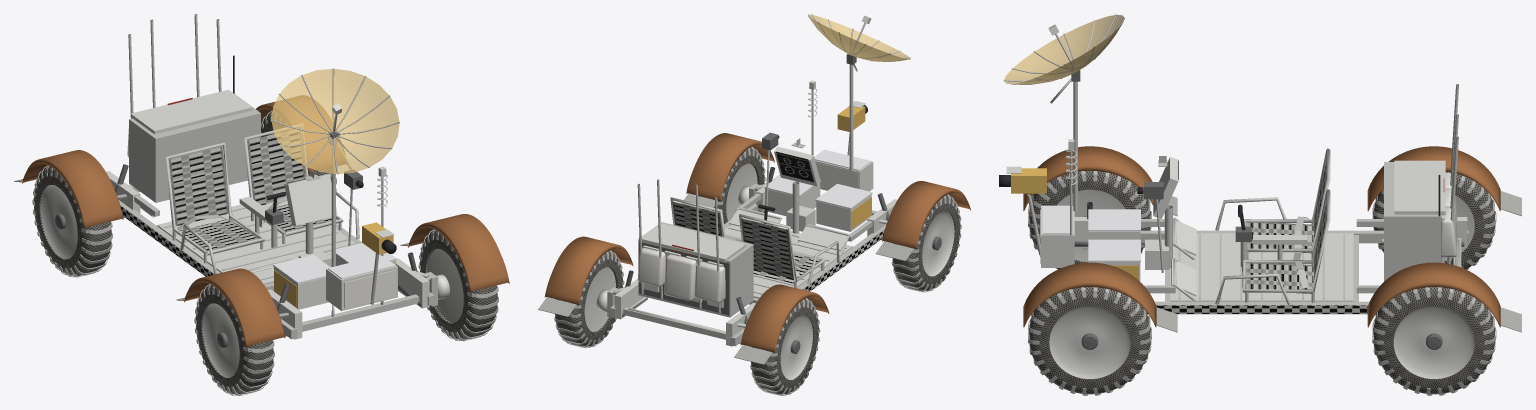
The model's file is lrv.glb.
The picture shows the model from 3 angles, left to right: view 1: azimuth 30°, elevation 25°; view 2: azimuth 150°, elevation 25°; view 3: azimuth 270°, elevation 25°; orthographic projection. The views are drawn at different scales.
Parts seen in each view (by area): view 1: lrv_body_alu, lrv_body_alu_white, lrv_hga_dish, lrv_body_web, lrv_steer_FR_fender, lrv_steer_RR_fender, lrv_steer_FL_fender, lrv_wheel_FR_wire, lrv_wheel_RR_wire, lrv_steer_RL_fender, lrv_body_mirror, lrv_wheel_FL_wire (+12 smaller); view 2: lrv_body_alu_white, lrv_body_alu, lrv_body_bag, lrv_body_web, lrv_steer_RL_fender, lrv_steer_FR_fender, lrv_steer_RR_fender, lrv_steer_FL_fender, lrv_body_mirror, lrv_hga_dish, lrv_wheel_FR_wire, lrv_wheel_RR_wire (+17 smaller); view 3: lrv_body_alu_white, lrv_body_alu, lrv_wheel_FL_wire, lrv_wheel_RL_wire, lrv_wheel_RL_hubdisk, lrv_wheel_FL_hubdisk, lrv_hga_dish, lrv_body_mirror, lrv_steer_RL_fender, lrv_steer_FL_fender, lrv_body_web, lrv_steer_FR_fender (+14 smaller).
Part boxes in pixels (left/top/right/bottom): lrv_body_alu: left=118, top=14, right=434, bottom=339; lrv_body_alu_white: left=106, top=89, right=429, bottom=339; lrv_hga_dish: left=271, top=68, right=399, bottom=174; lrv_body_web: left=169, top=128, right=338, bottom=252; lrv_steer_FR_fender: left=184, top=268, right=285, bottom=347; lrv_steer_RR_fender: left=22, top=150, right=123, bottom=228; lrv_steer_FL_fender: left=408, top=214, right=509, bottom=292; lrv_wheel_FR_wire: left=195, top=285, right=273, bottom=394; lrv_wheel_RR_wire: left=34, top=166, right=111, bottom=275; lrv_steer_RL_fender: left=256, top=95, right=346, bottom=174; lrv_body_mirror: left=273, top=243, right=396, bottom=283; lrv_wheel_FL_wire: left=420, top=230, right=497, bottom=339; lrv_body_alu_white: left=614, top=80, right=897, bottom=346; lrv_body_alu: left=610, top=64, right=885, bottom=346; lrv_body_bag: left=638, top=162, right=858, bottom=303; lrv_body_web: left=672, top=201, right=821, bottom=283; lrv_steer_RL_fender: left=544, top=236, right=633, bottom=305; lrv_steer_FR_fender: left=882, top=181, right=970, bottom=249; lrv_steer_RR_fender: left=740, top=284, right=829, bottom=353; lrv_steer_FL_fender: left=686, top=133, right=774, bottom=201; lrv_body_mirror: left=764, top=149, right=872, bottom=209; lrv_hga_dish: left=808, top=14, right=910, bottom=61; lrv_wheel_FR_wire: left=892, top=195, right=960, bottom=290; lrv_wheel_RR_wire: left=751, top=299, right=818, bottom=394; lrv_body_alu_white: left=1006, top=139, right=1467, bottom=301; lrv_body_alu: left=1027, top=81, right=1468, bottom=314; lrv_wheel_FL_wire: left=1029, top=287, right=1150, bottom=394; lrv_wheel_RL_wire: left=1373, top=287, right=1494, bottom=394; lrv_wheel_RL_hubdisk: left=1393, top=306, right=1474, bottom=378; lrv_wheel_FL_hubdisk: left=1049, top=306, right=1130, bottom=378; lrv_hga_dish: left=1004, top=14, right=1123, bottom=84; lrv_body_mirror: left=1042, top=205, right=1140, bottom=262; lrv_steer_RL_fender: left=1367, top=262, right=1500, bottom=327; lrv_steer_FL_fender: left=1023, top=262, right=1156, bottom=327; lrv_body_web: left=1245, top=163, right=1326, bottom=293; lrv_steer_FR_fender: left=1023, top=146, right=1153, bottom=211.
Bounding box in the file's own units: 2.15 × 2.23 × 3.48.
Materials: 18 (4 with a texture image).
